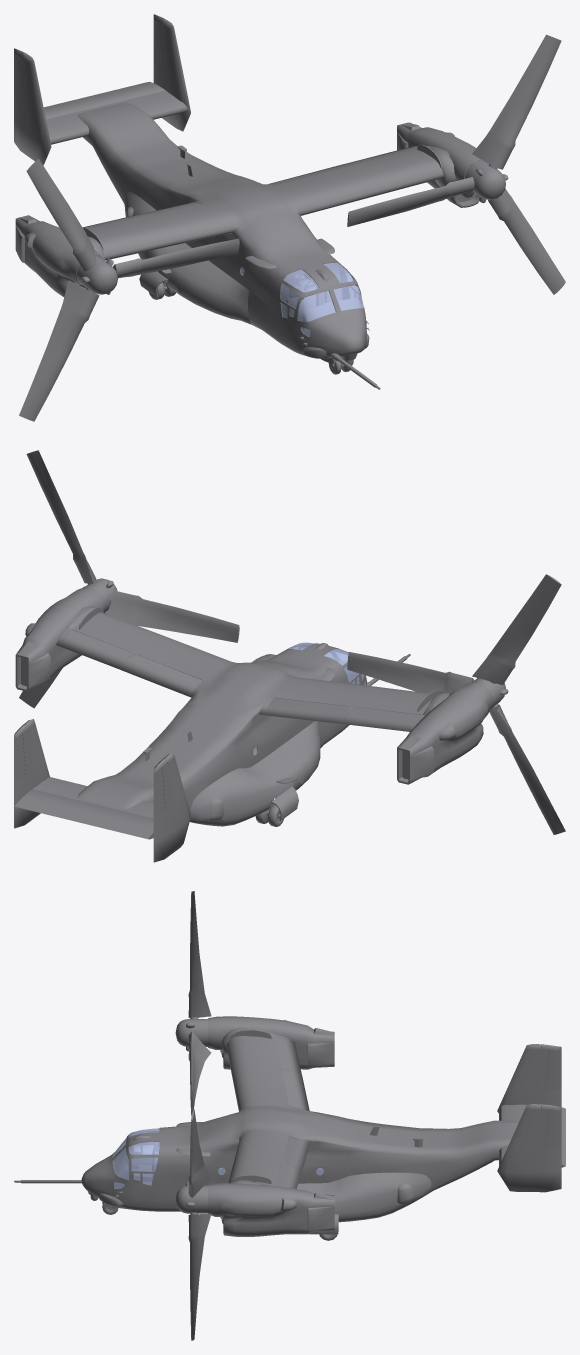
3 renders of one model, top to bottom at view 1: azimuth 30°, elevation 25°; view 2: azimuth 150°, elevation 25°; view 3: azimuth 270°, elevation 25°, orthographic. The views are drawn at different scales.
Visible parts, largest first — view 1: Fuselage, Prop02, Prop01, Engines, Tail_Flap; view 2: Fuselage, Engines, Prop02, Prop01, Tail_Flap, FlapL_01, FlapR01, FlapL_02, FlapR_02, Tail_CS01, Tail_CS02, Gear_Door_R01; view 3: Fuselage, Engines, Prop01, Prop02, FlapR01, Tail_CS01, Tail_CS02, FlapR_02, FlapL_01.
Boxes of the visible parts, left/top/right/bottom form: Fuselage: left=14, top=20, right=453, bottom=389; Prop02: left=19, top=158, right=239, bottom=421; Prop01: left=347, top=34, right=565, bottom=294; Engines: left=15, top=122, right=483, bottom=297; Tail_Flap: left=43, top=81, right=165, bottom=119; Fuselage: left=14, top=607, right=446, bottom=862; Engines: left=15, top=587, right=493, bottom=784; Prop02: left=347, top=574, right=565, bottom=834; Prop01: left=19, top=450, right=239, bottom=708; Tail_Flap: left=15, top=789, right=153, bottom=839; FlapL_01: left=120, top=654, right=202, bottom=696; FlapR01: left=265, top=698, right=349, bottom=723; FlapL_02: left=59, top=630, right=131, bottom=669; FlapR_02: left=343, top=707, right=421, bottom=731; Tail_CS01: left=153, top=758, right=166, bottom=816; Tail_CS02: left=14, top=724, right=27, bottom=782; Gear_Door_R01: left=271, top=786, right=298, bottom=821; Fuselage: left=14, top=1030, right=561, bottom=1222; Engines: left=208, top=1016, right=334, bottom=1236; Prop01: left=175, top=1109, right=211, bottom=1340; Prop02: left=175, top=891, right=211, bottom=1115; FlapR01: left=282, top=1070, right=309, bottom=1110; Tail_CS01: left=541, top=1044, right=561, bottom=1089; Tail_CS02: left=541, top=1104, right=561, bottom=1149; FlapR_02: left=274, top=1036, right=301, bottom=1074; FlapL_01: left=282, top=1136, right=309, bottom=1170.
Size of the model in its own units: 137 by 62.4 by 136.
